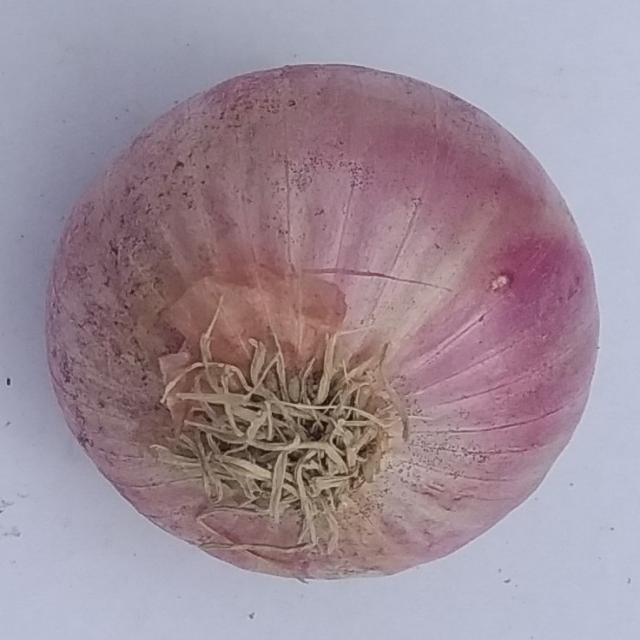onion: (45, 62, 604, 584)
